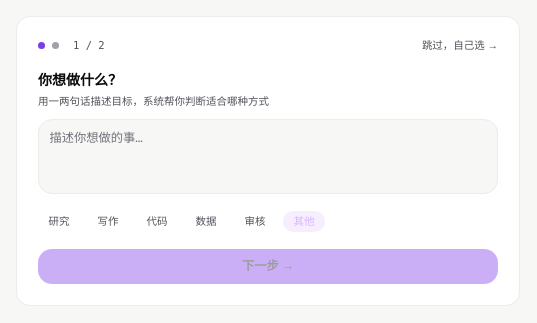
Test case: GoalClarityWizard › back navigation (H3) › Step 2 has a back button that returns to Step 1 with state preserved
In the text box with test id "wizard-goal-input": (268, 156) [38,118,498,194], type "写一份研究报告"
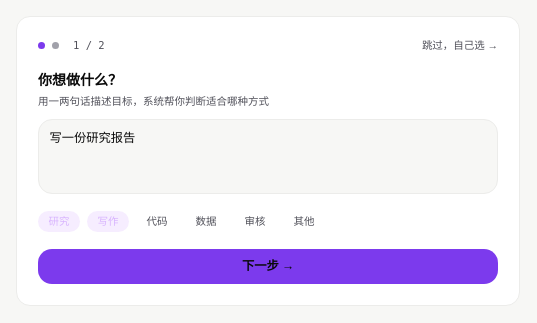
Click the button with test id "wizard-next-btn": (268, 266) [38,249,498,284]
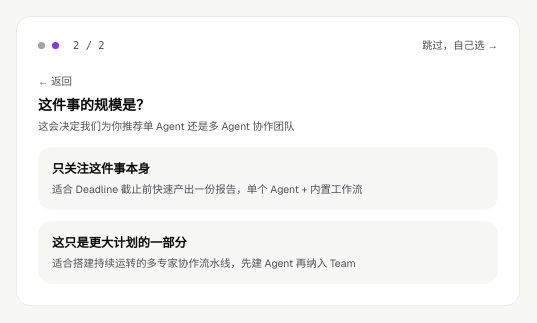
Now the element with test id "wizard-step-2" is shown, box [38,70,498,284]
Click the button with test id "wizard-back-btn": (55, 80) [38,74,72,88]
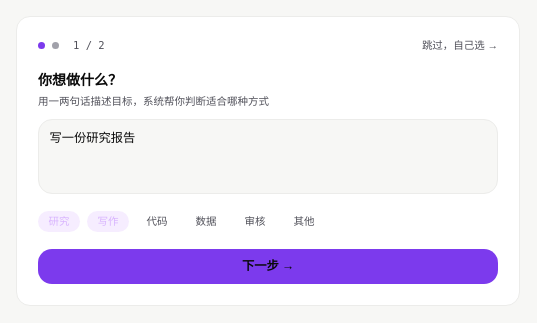
Now the element with test id "wizard-step-1" is shown, box [38,70,498,284]
Now the text box with test id "wizard-goal-input" holds "写一份研究报告", box [38,118,498,194]
